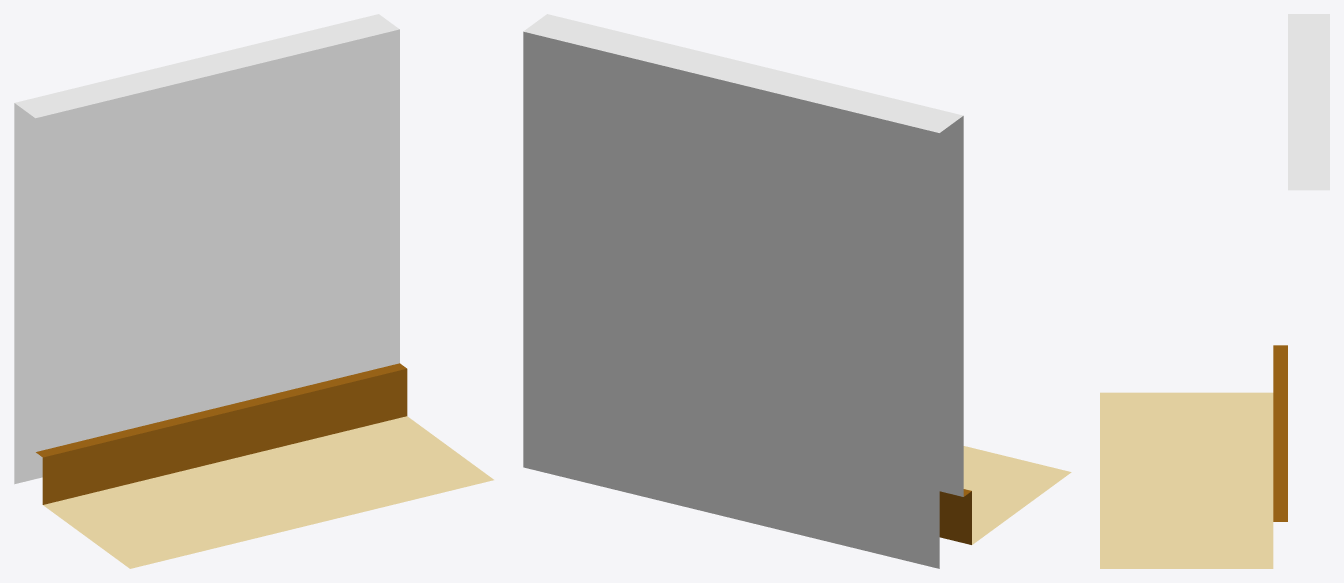
File: E_Wall_Straight.fbx
3 renders of one model, left to right at view 1: azimuth 30°, elevation 25°; view 2: azimuth 150°, elevation 25°; view 3: azimuth 270°, elevation 25°, orthographic. The views are drawn at different scales.
Visible parts, largest first — view 1: E_Wall_Straight; view 2: E_Wall_Straight; view 3: E_Wall_Straight.
Part boxes in pixels (x1,y1,x2,y2): E_Wall_Straight: (14, 14, 493, 568); E_Wall_Straight: (523, 14, 1071, 568); E_Wall_Straight: (1100, 14, 1329, 568).
Size of the model in its own units: 200 by 200 by 110.
Materials: 1 (1 with a texture image).
